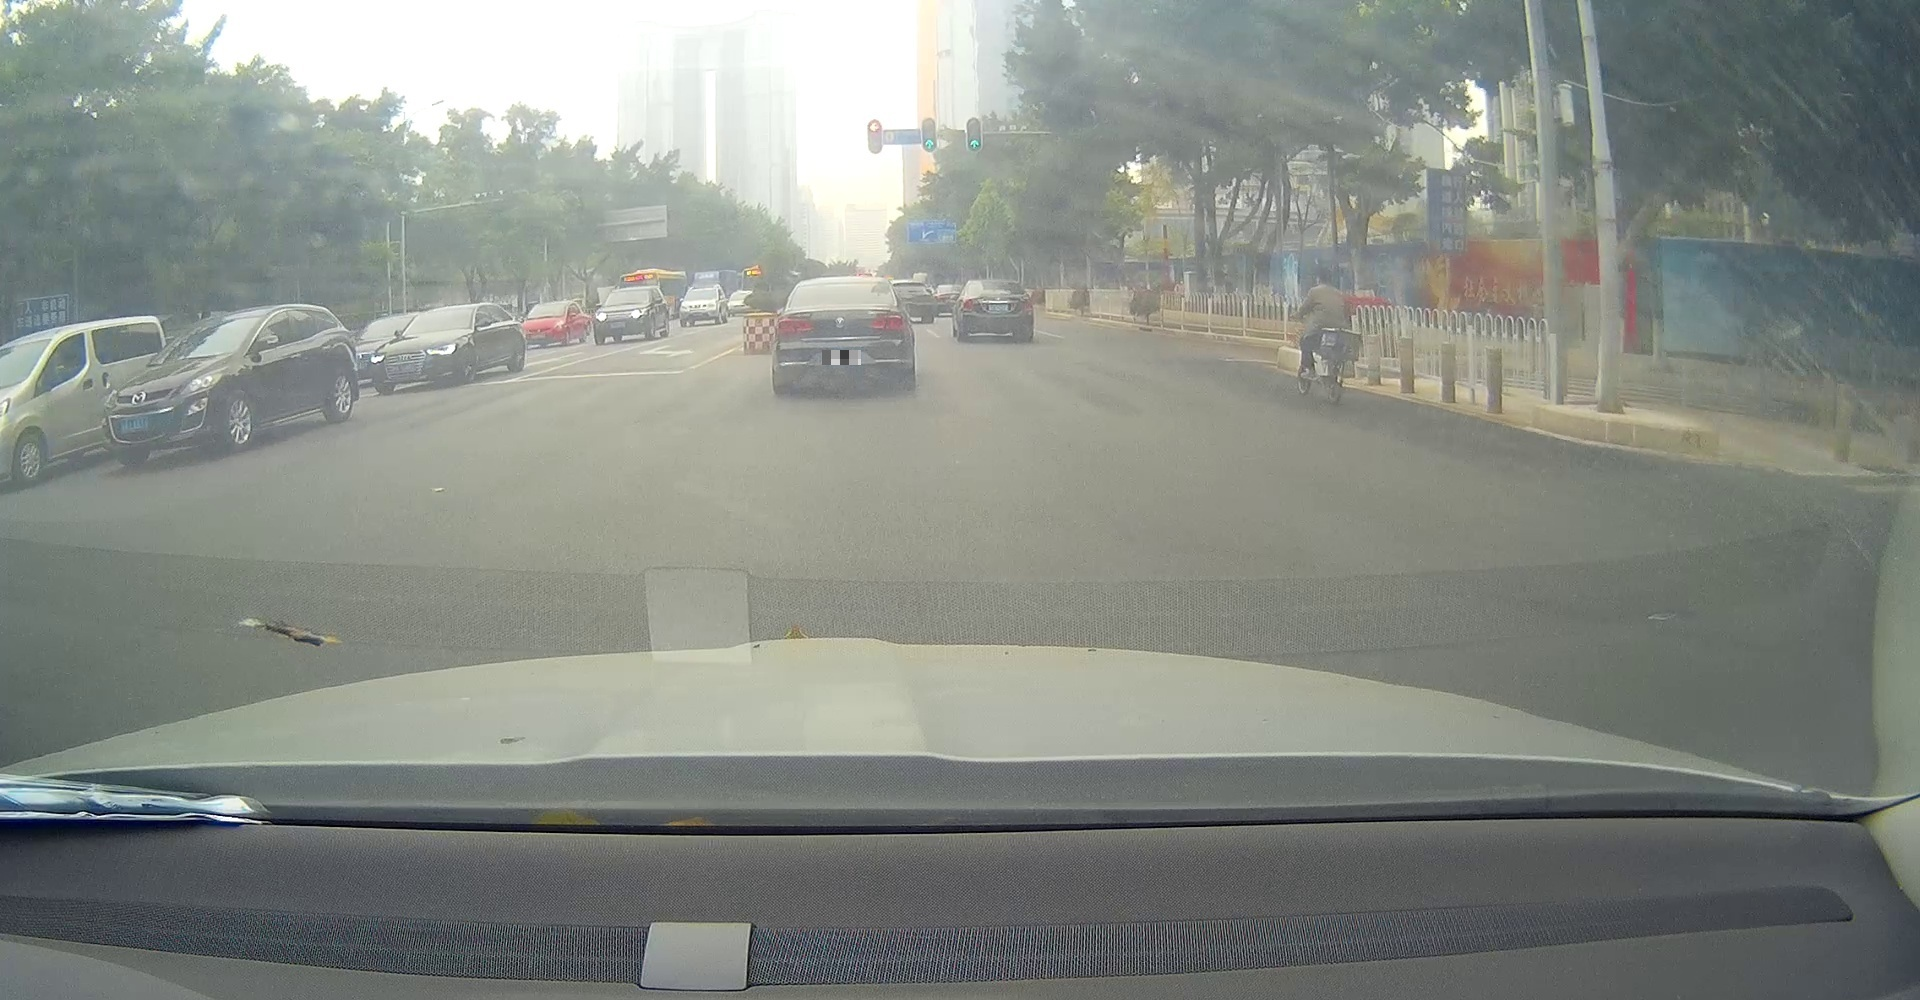L_light: (775, 317, 814, 336), (963, 298, 973, 311)
R_light: (869, 313, 904, 330), (1023, 299, 1032, 311)
T_light: (834, 284, 850, 288), (990, 280, 1001, 284)
day-no: (772, 275, 916, 393), (959, 279, 1034, 340)
plate_1: (822, 350, 861, 365)
